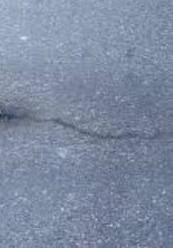crack: (4, 106, 168, 141)
